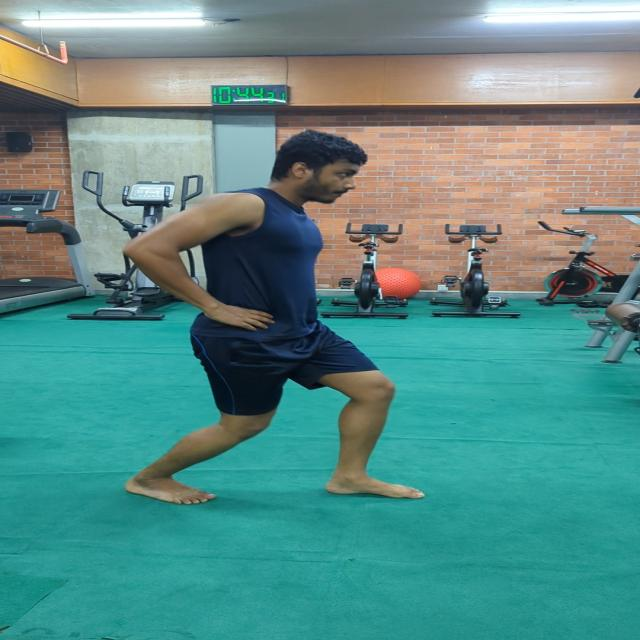Normal_Lunges: (111, 126, 433, 516)
